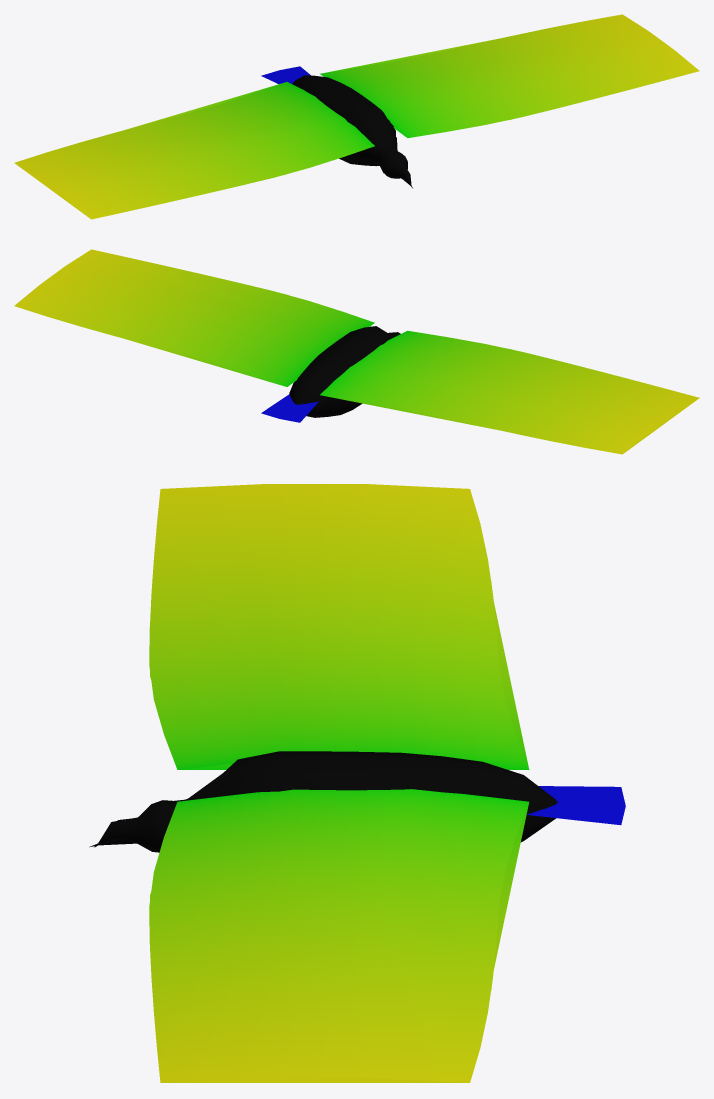
File: vulture.glb
The picture shows the model from 3 angles, top to bottom: view 1: azimuth 30°, elevation 25°; view 2: azimuth 150°, elevation 25°; view 3: azimuth 270°, elevation 25°; orthographic projection. The views are drawn at different scales.
Visible parts, largest first — view 1: fly0, fly1, fly2; view 2: fly0, fly2, fly1; view 3: fly0, fly1, fly2.
Boxes of the visible parts, x1,y1,x2,y2 form: fly0: (14, 14, 699, 219); fly1: (16, 52, 511, 217); fly2: (20, 38, 498, 215); fly0: (14, 249, 699, 454); fly2: (129, 325, 694, 450); fly1: (209, 293, 697, 452); fly0: (95, 484, 625, 1082); fly1: (94, 582, 554, 1082); fly2: (89, 601, 528, 1082).
Size of the model in its own units: 2.6 by 0.243 by 0.9948.
